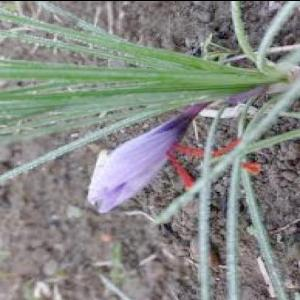Saffron: (88, 106, 198, 212)
